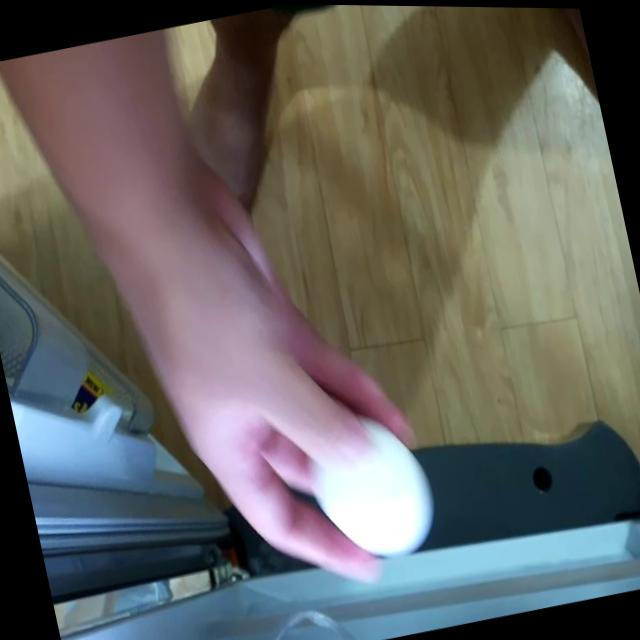egg: (300, 394, 450, 566)
